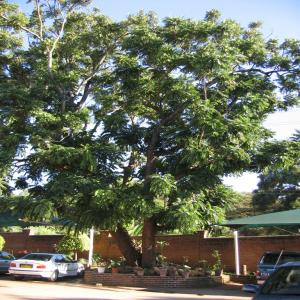Vehicle-registration-plate: (21, 265, 32, 269)
